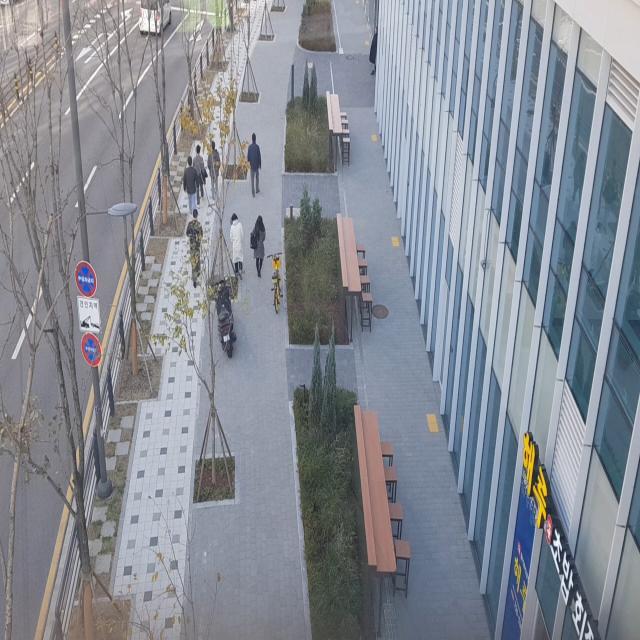Car: (137, 0, 175, 36)
